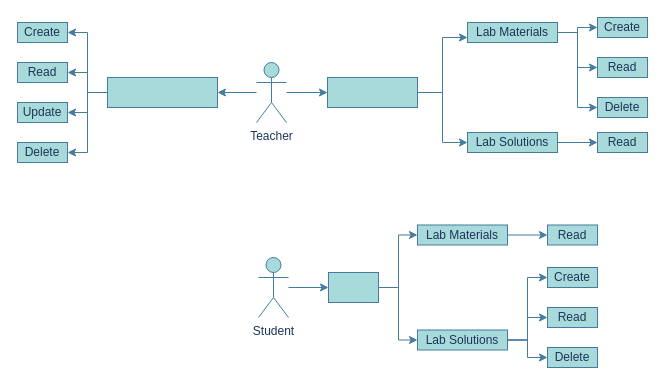
Some shapes in this 665 by 385 pixel diagram are drawn without their labels. The centre of each missing label's shape, as x and y in pixels:
"Labs" belongs at point (353, 287).
"Manage Labs" belongs at point (372, 92).
"Manage Students" belongs at point (162, 92).
